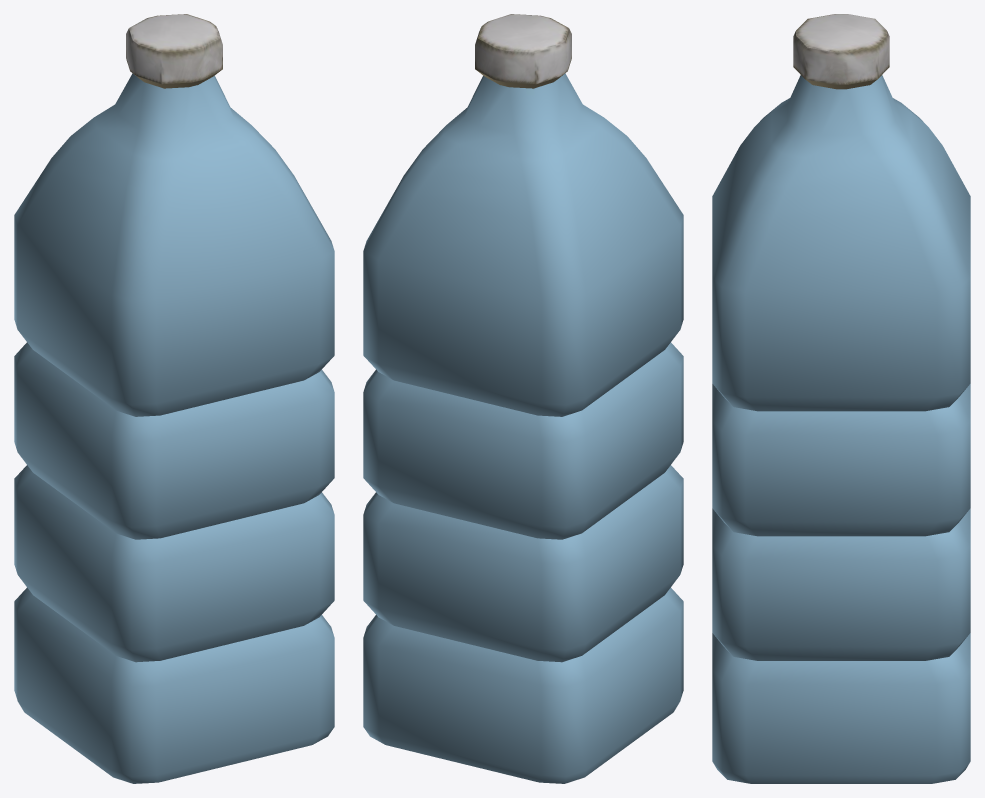
The model's file is bottle-03.fbx.
3 renders of one model, left to right at view 1: azimuth 30°, elevation 25°; view 2: azimuth 150°, elevation 25°; view 3: azimuth 270°, elevation 25°, orthographic.
Parts seen in each view (by area): view 1: bottle_03_botles_cans_0; view 2: bottle_03_botles_cans_0; view 3: bottle_03_botles_cans_0.
Part boxes in pixels (box(x1,y1,x2,y2)): bottle_03_botles_cans_0: box(14, 14, 334, 783); bottle_03_botles_cans_0: box(363, 14, 683, 783); bottle_03_botles_cans_0: box(712, 14, 970, 783).
Bounding box in the file's own units: 2.63 × 7.92 × 2.63.
